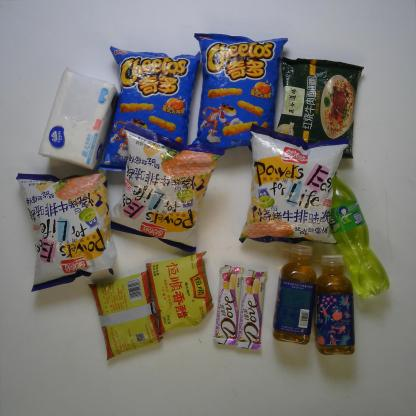Chocolate: (234, 270, 268, 350), (214, 264, 245, 346)
Drink: (320, 164, 389, 299), (272, 244, 318, 344), (313, 254, 355, 355)
Instant Noodles: (273, 57, 363, 160)
Puffed Food: (103, 121, 226, 252), (97, 45, 201, 180), (240, 122, 350, 245), (185, 32, 288, 156), (16, 166, 116, 291)
Seasoner: (88, 269, 163, 361), (146, 251, 214, 336)
Tissue: (39, 68, 121, 170)
